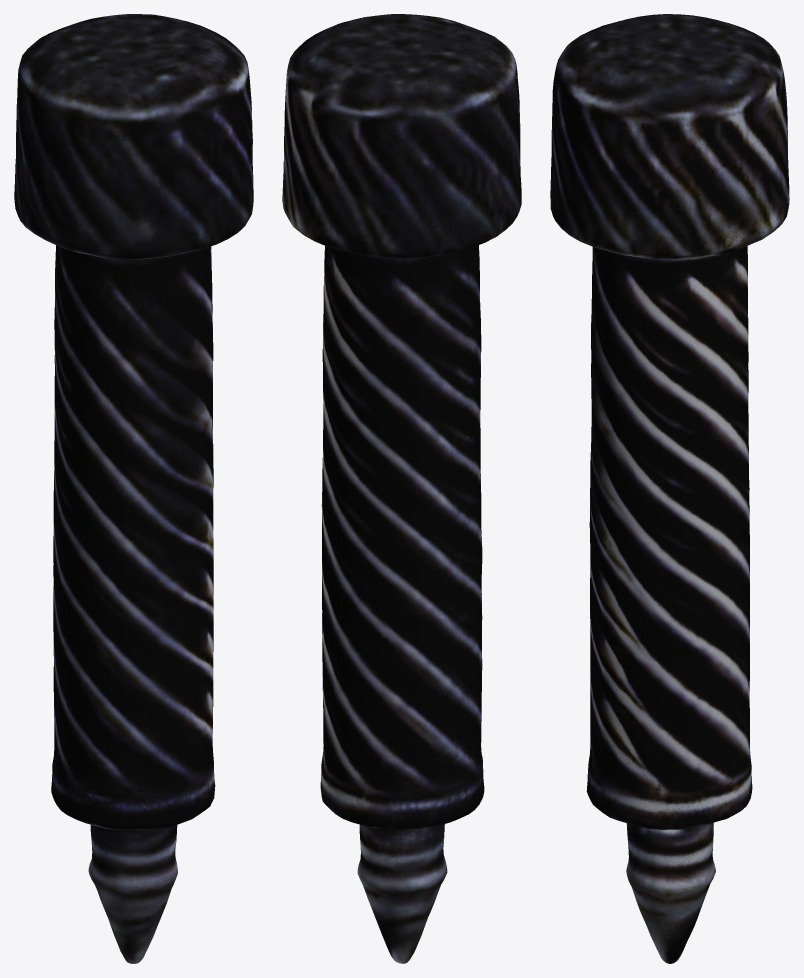
Rendered from efad1f9df1d5_bolt_min.fbx.
3 views of the same model, side by side, from view 1: azimuth 30°, elevation 25°; view 2: azimuth 150°, elevation 25°; view 3: azimuth 270°, elevation 25° (orthographic).
Visible parts, largest first — view 1: mesh; view 2: mesh; view 3: mesh.
Part boxes in pixels (x1,y1,x2,y2): mesh: (14,14,253,963); mesh: (282,14,521,963); mesh: (550,14,789,963).
Size of the model in its own units: 23.59 by 99.77 by 23.59.
